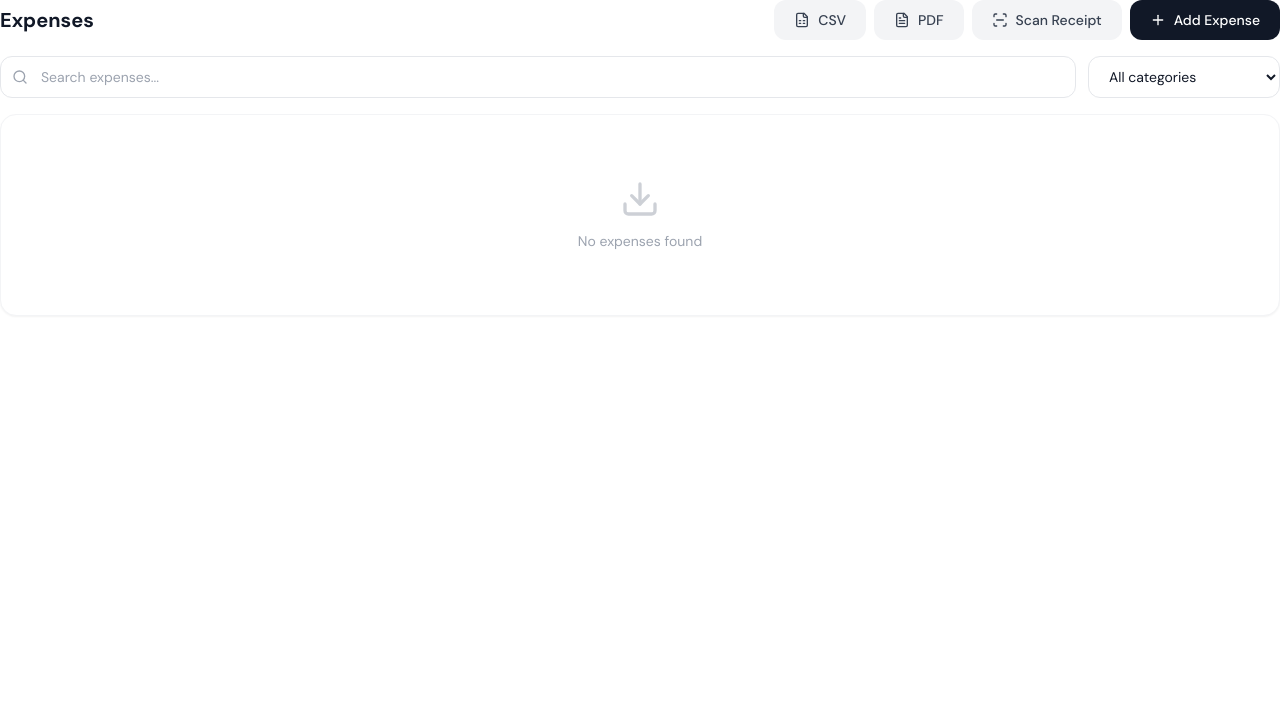
Test case: ExpenseForm — add expense modal › shows description and amount fields in the modal
Click the button "Add Expense".
click(1205, 20)  # box [1130,0,1279,40]
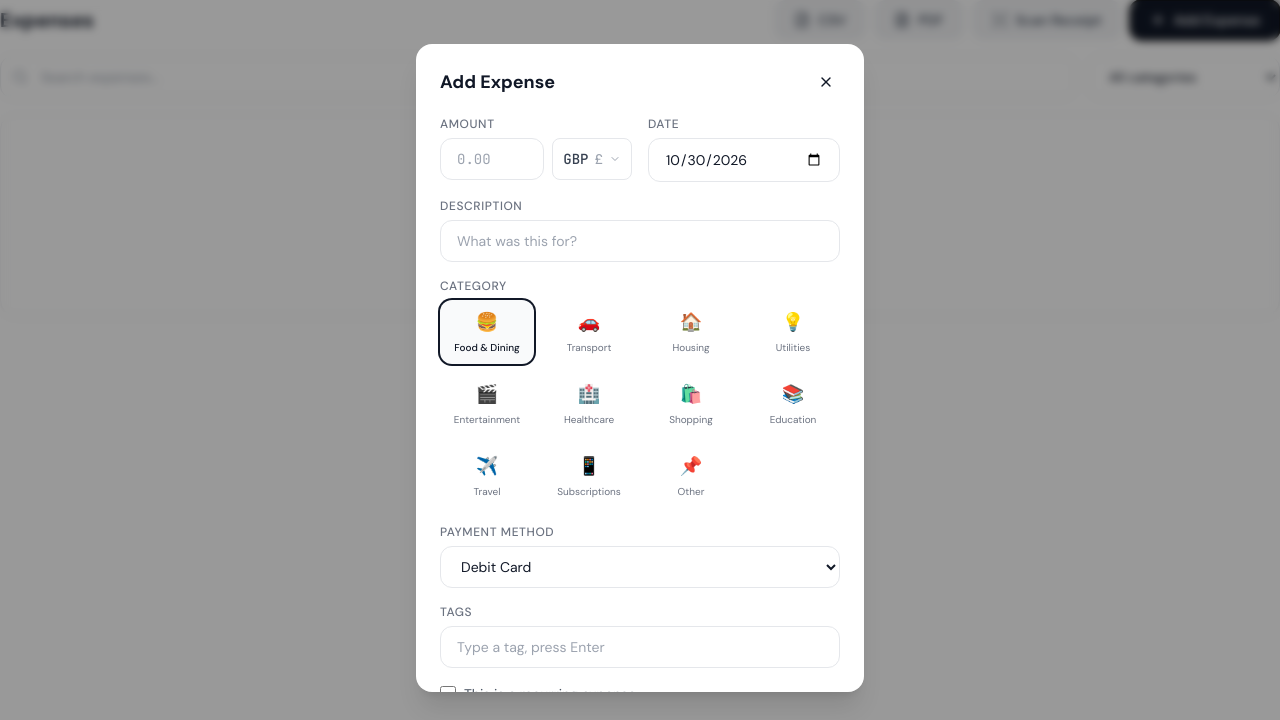
Expected: the field with placeholder "What was this for?" is shown, [440,220,840,262]
Expected: the number field with placeholder "0.00" is shown, [440,138,544,180]
